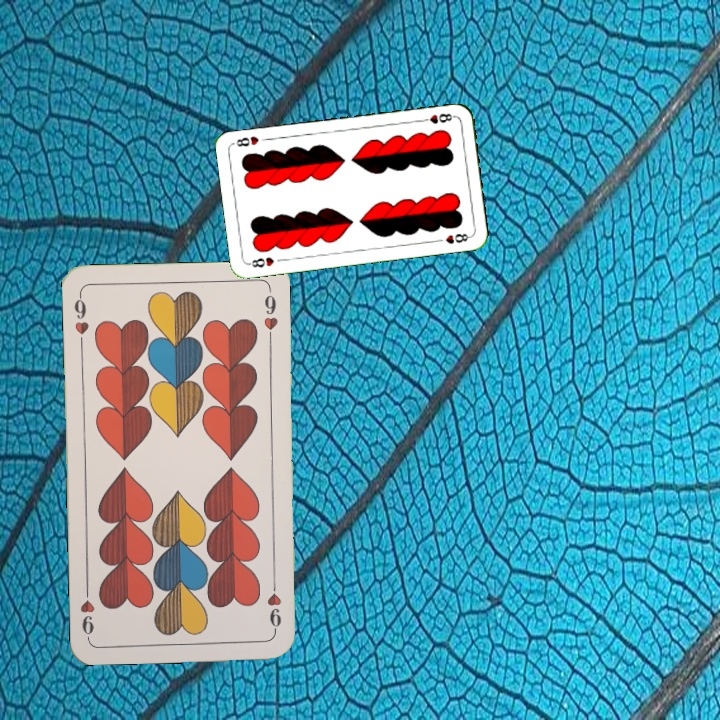H8: (417, 109, 457, 127), (245, 253, 277, 270)
H9: (70, 290, 91, 349), (263, 575, 284, 634)
